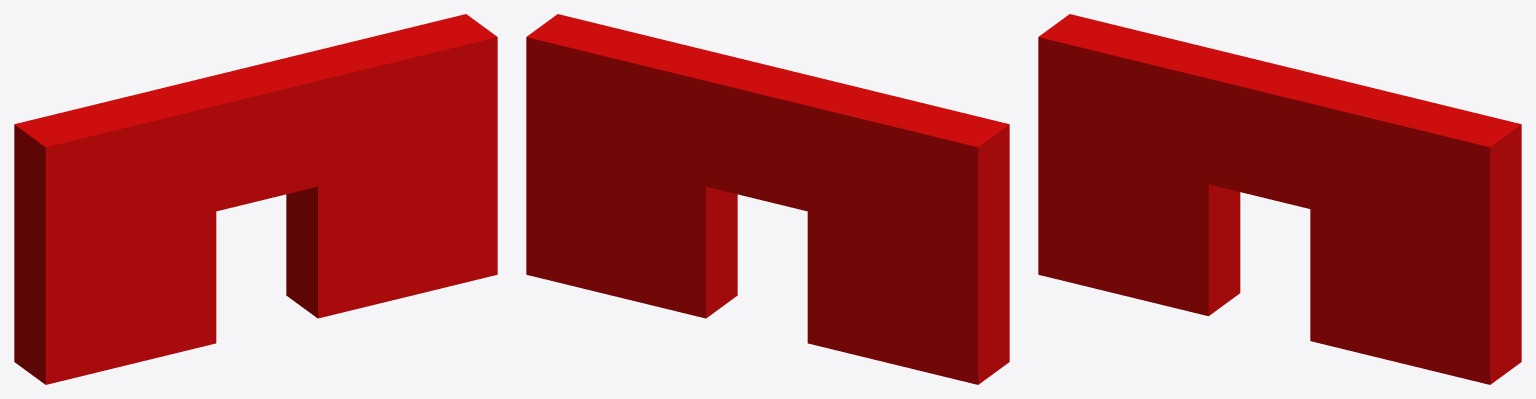
The model's file is red square wall.fbx.
3 renders of one model, left to right at view 1: azimuth 30°, elevation 25°; view 2: azimuth 150°, elevation 25°; view 3: azimuth 330°, elevation 25°, orthographic.
Visible parts, largest first — view 1: pCube1; view 2: pCube1; view 3: pCube1.
Part boxes in pixels (x1,y1,x2,y2): pCube1: (14,14,497,384); pCube1: (526,14,1009,384); pCube1: (1038,14,1521,384).
Bounding box in the file's own units: 1.99 × 1 × 0.2405.
